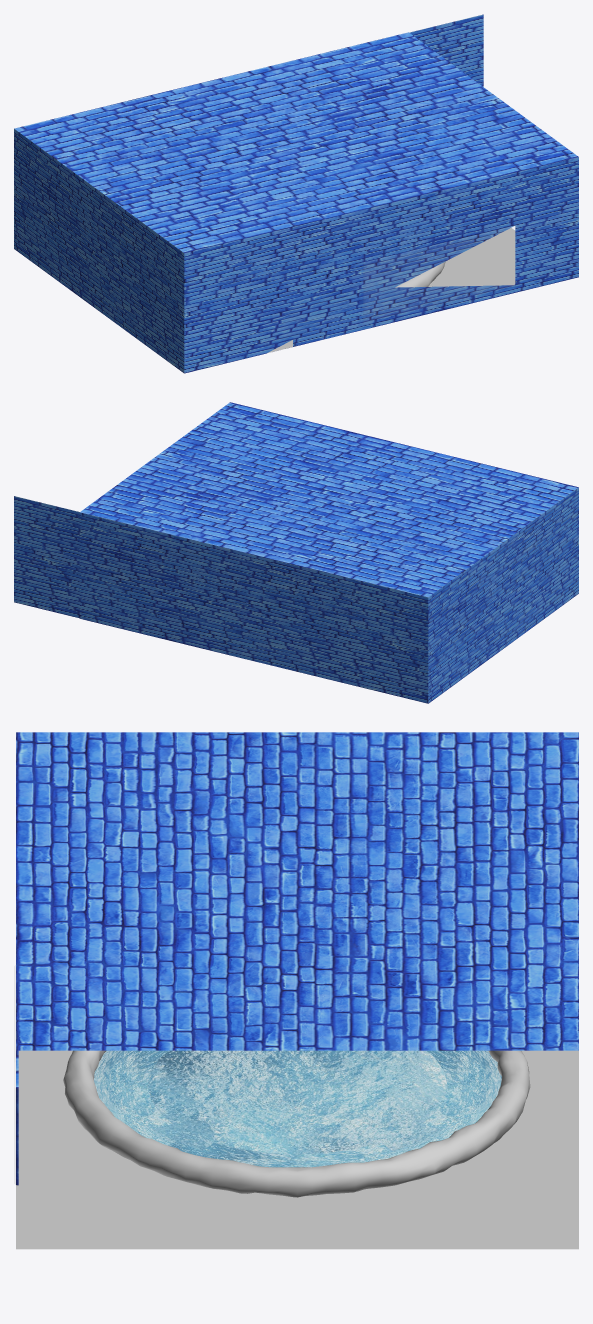
The model's file is OutdoorPenguinRoomINVERTED.fbx.
The picture shows the model from 3 angles, top to bottom: view 1: azimuth 30°, elevation 25°; view 2: azimuth 150°, elevation 25°; view 3: azimuth 270°, elevation 25°; orthographic projection. The views are drawn at different scales.
Parts seen in each view (by area): view 1: PenguinOutdoor wall, Torus.001; view 2: PenguinOutdoor wall; view 3: PenguinOutdoor wall, Sphere.001, Torus.001.
Part boxes in pixels (x1,y1,x2,y2): PenguinOutdoor wall: (14,14,578,373); Torus.001: (395,261,445,287); PenguinOutdoor wall: (14,402,578,703); PenguinOutdoor wall: (16,732,578,1249); Sphere.001: (94,1050,501,1167); Torus.001: (63,1050,530,1197).
Size of the model in its own units: 61.25 by 15.39 by 38.65.
